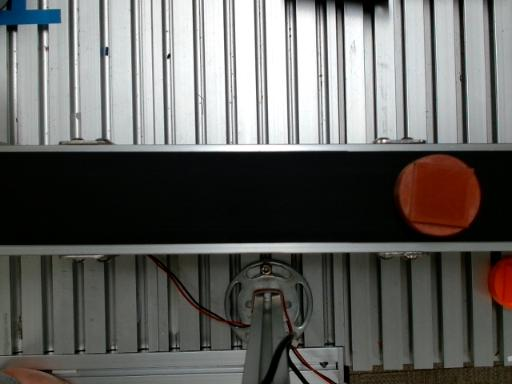Brown_Waper: (394, 154, 480, 237)
Square: (408, 162, 474, 228)
